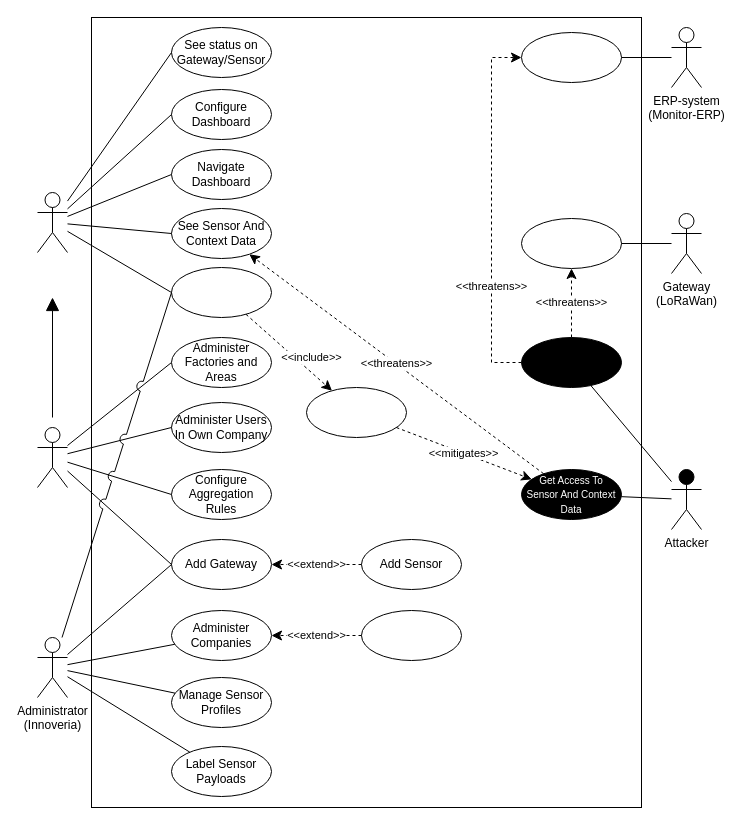
The diagram is 742 pixels wide and 825 high, and some of its shapes have lost their labels. The shapes that lost their labels are listed below. From the top down, each one's centre as x and y in pixels, then its label:
At point 571,57: "Get Production-data".
At point 52,222: "User (Factory)".
At point 571,243: "Receive Sensor-data".
At point 221,292: "Log In".
At point 571,362: "Overload The System".
At point 356,412: "Authenticate User".
At point 52,457: "Superuser (Factory)".
At point 411,635: "Administer Company Superusers".
